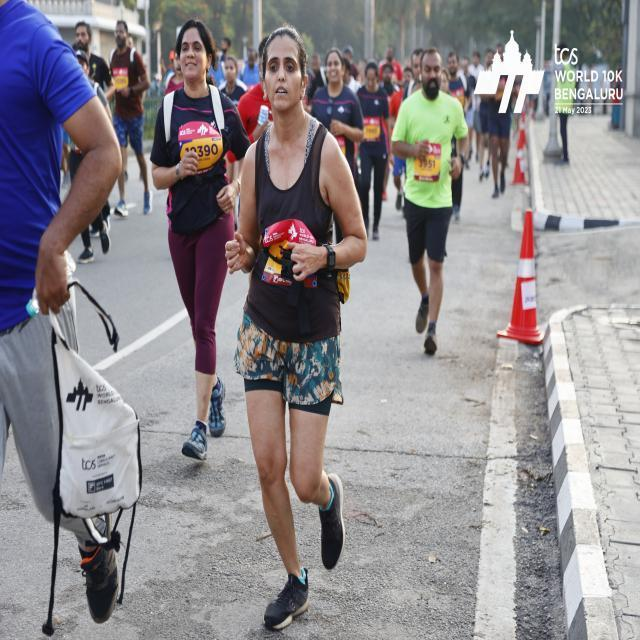dorsal: (178, 123, 222, 174)
